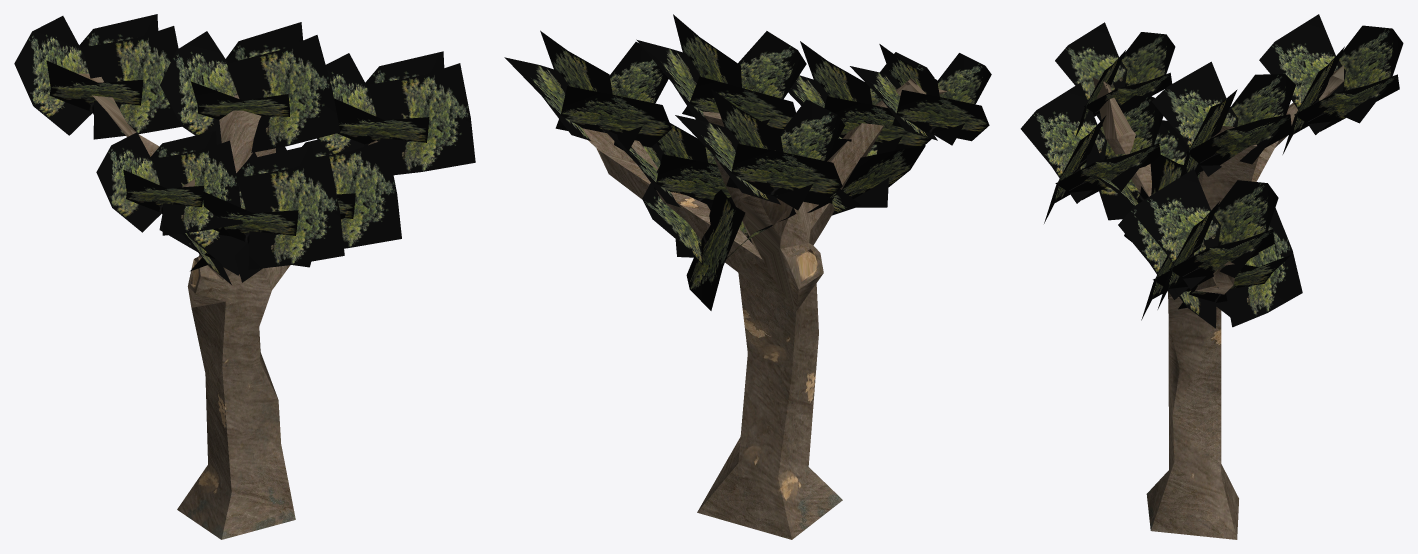
File: tree01_lod1.obj
3 renders of one model, left to right at view 1: azimuth 30°, elevation 25°; view 2: azimuth 150°, elevation 25°; view 3: azimuth 270°, elevation 25°, orthographic. The views are drawn at different scales.
Parts seen in each view (by area): view 1: game leaf, chunk game; view 2: game leaf, chunk game; view 3: game leaf, chunk game.
Boxes of the visible parts, left/top/right/bottom form: game leaf: left=14, top=14, right=475, bottom=284; chunk game: left=77, top=73, right=377, bottom=539; game leaf: left=504, top=14, right=991, bottom=310; chunk game: left=582, top=78, right=947, bottom=539; game leaf: left=1020, top=14, right=1403, bottom=328; chunk game: left=1093, top=65, right=1344, bottom=539.
Size of the model in its own units: 9.1 by 9.92 by 7.59.
Materials: 2 (2 with a texture image).
